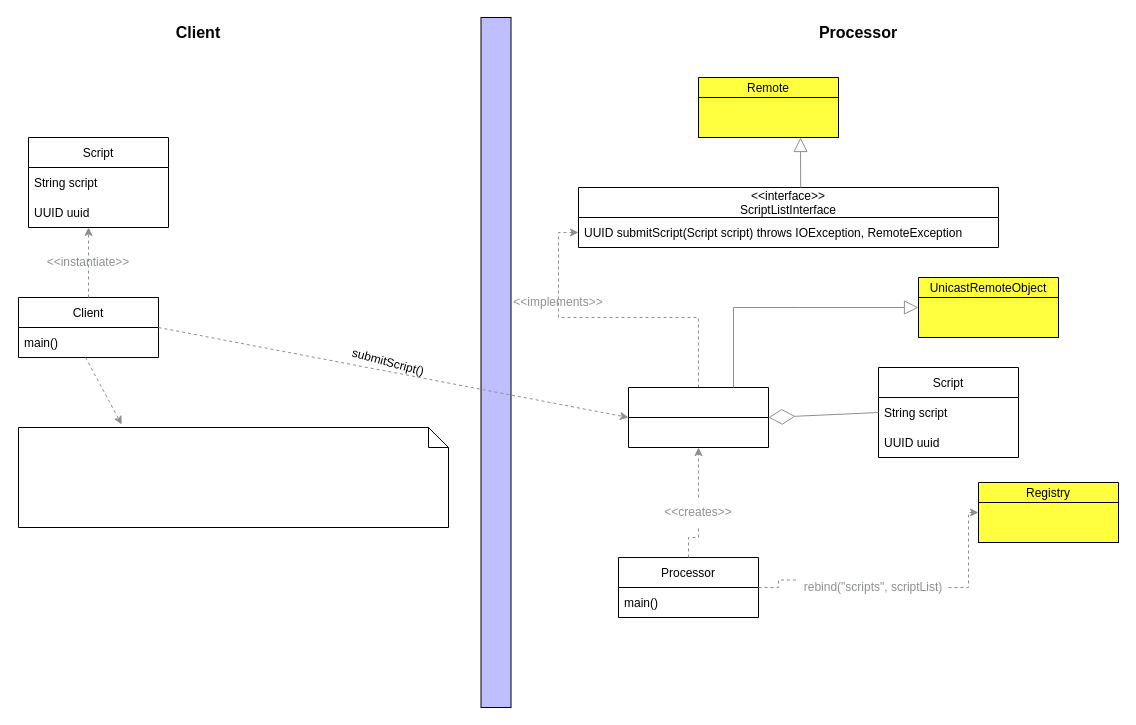
This 1136x725 diagram has some shape labels left out. Each missing label, with the centre of its shape:
Naming. lookup ("rmi://localhost:2022/scripts"): pixel 233 477
R M I M i d d l e w a r e: pixel 495 362
ScriptManager: pixel 698 417
